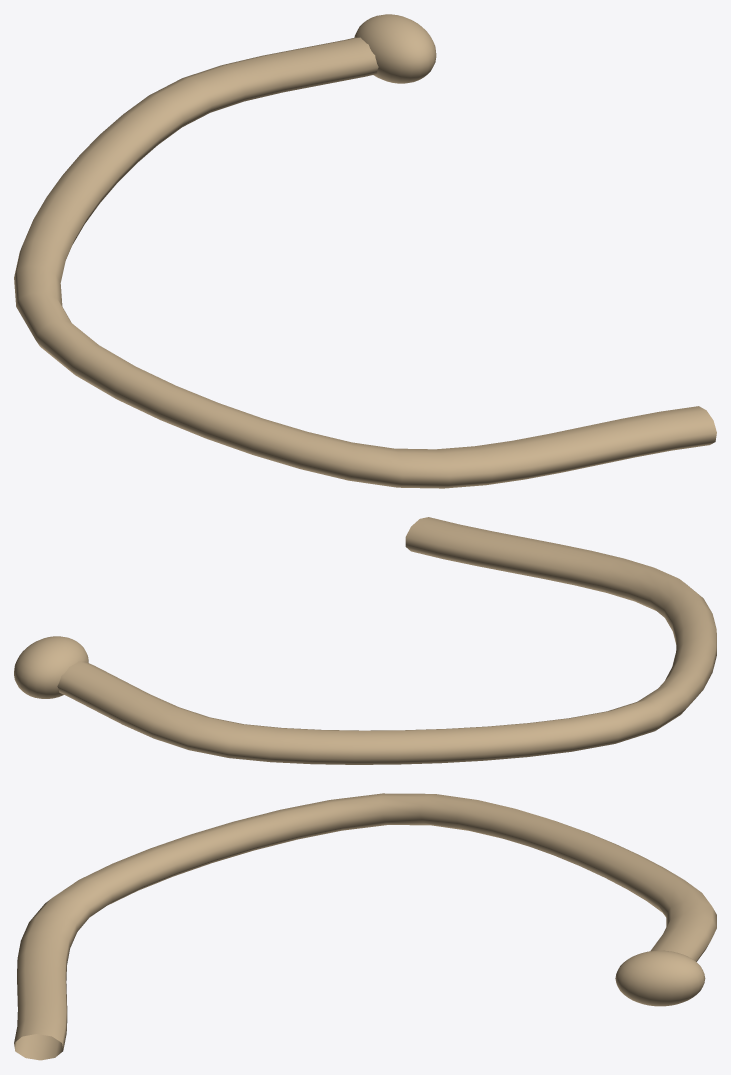
The model's file is right_rib_2.glb.
The picture shows the model from 3 angles, top to bottom: view 1: azimuth 30°, elevation 25°; view 2: azimuth 150°, elevation 25°; view 3: azimuth 270°, elevation 25°; orthographic projection. The views are drawn at different scales.
Parts seen in each view (by area): view 1: right_rib_2:costal-body, right_rib_2:head; view 2: right_rib_2:costal-body, right_rib_2:head; view 3: right_rib_2:costal-body, right_rib_2:head.
Part boxes in pixels (x1,y1,x2,y2): right_rib_2:costal-body: (14, 37, 716, 488); right_rib_2:head: (354, 14, 436, 83); right_rib_2:costal-body: (57, 517, 716, 764); right_rib_2:head: (14, 636, 88, 698); right_rib_2:costal-body: (14, 793, 716, 1060); right_rib_2:head: (615, 950, 705, 1006).
Bounding box in the file's own units: 0.3169 × 0.081 × 0.405.
